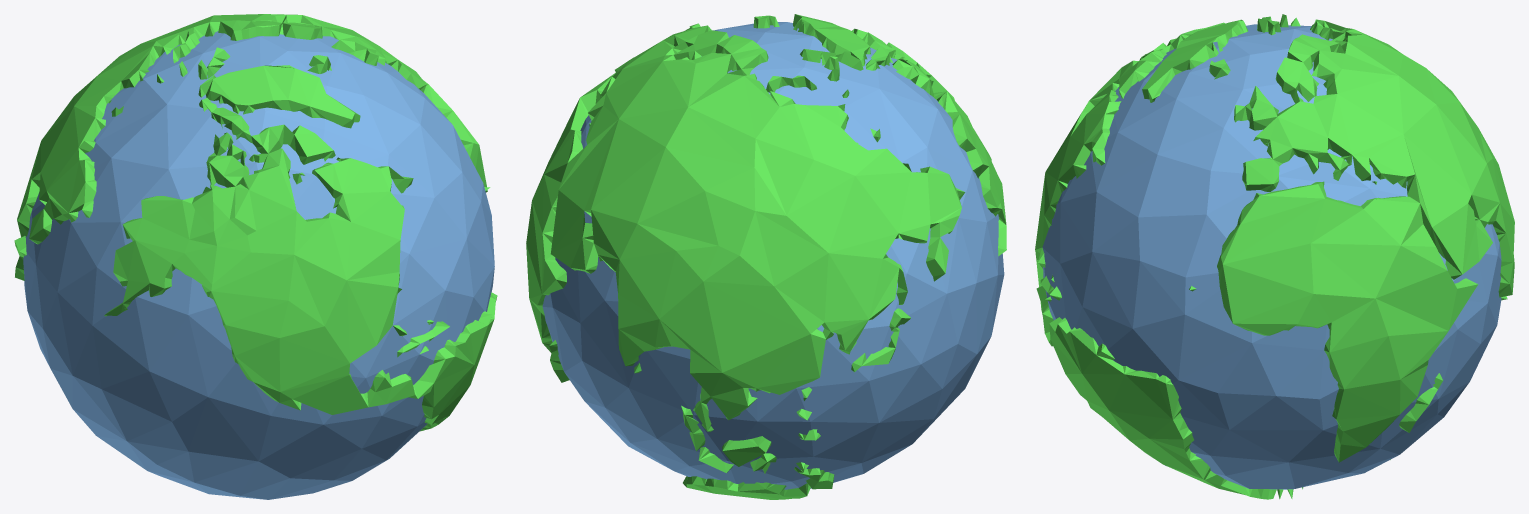
The model's file is earth.fbx.
3 renders of one model, left to right at view 1: azimuth 30°, elevation 25°; view 2: azimuth 150°, elevation 25°; view 3: azimuth 270°, elevation 25°, orthographic.
Parts seen in each view (by area): view 1: Sphere.004; view 2: Sphere.004; view 3: Sphere.004.
Boxes of the visible parts, x1,y1,x2,y2 form: Sphere.004: (14, 14, 497, 499); Sphere.004: (526, 14, 1006, 499); Sphere.004: (1035, 14, 1514, 499).
Bounding box in the file's own units: 195 × 201 × 199.
